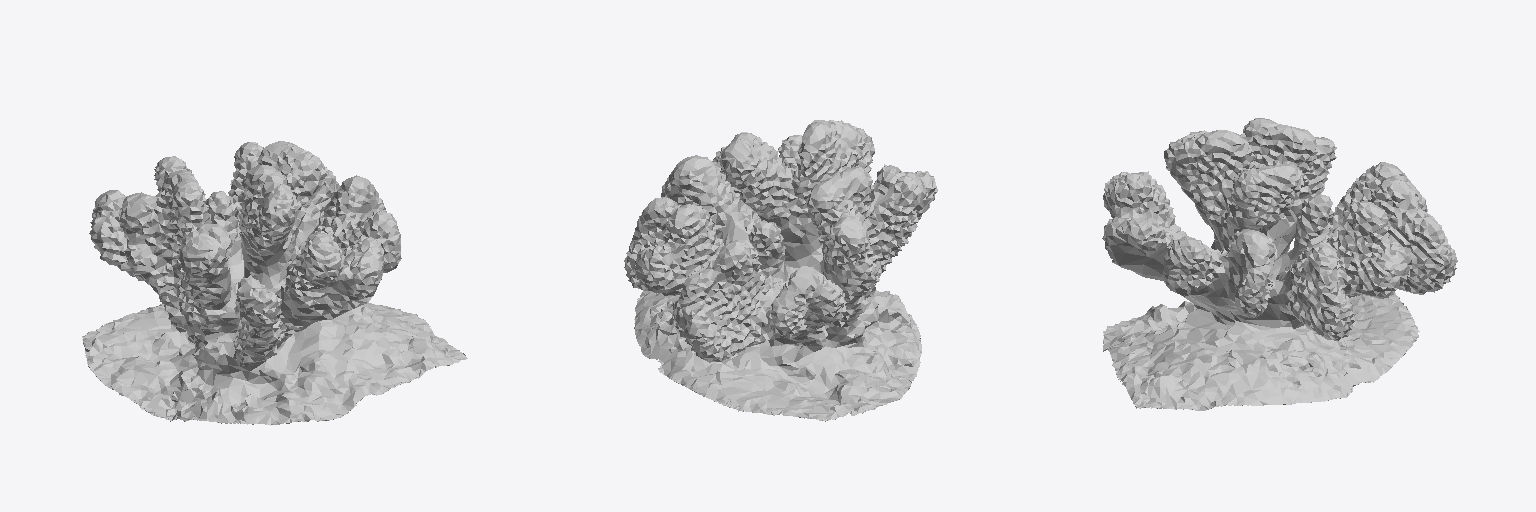
File: Coral2.obj
3 views of the same model, side by side, from view 1: azimuth 30°, elevation 25°; view 2: azimuth 150°, elevation 25°; view 3: azimuth 270°, elevation 25° (orthographic).
Visible parts, largest first — view 1: 2; view 2: 2; view 3: 2.
Boxes of the visible parts, x1,y1,x2,y2 form: 2: [82, 141, 467, 425]; 2: [624, 120, 937, 421]; 2: [1102, 118, 1457, 410].
Size of the model in its own units: 11.15 by 8.6 by 12.03.